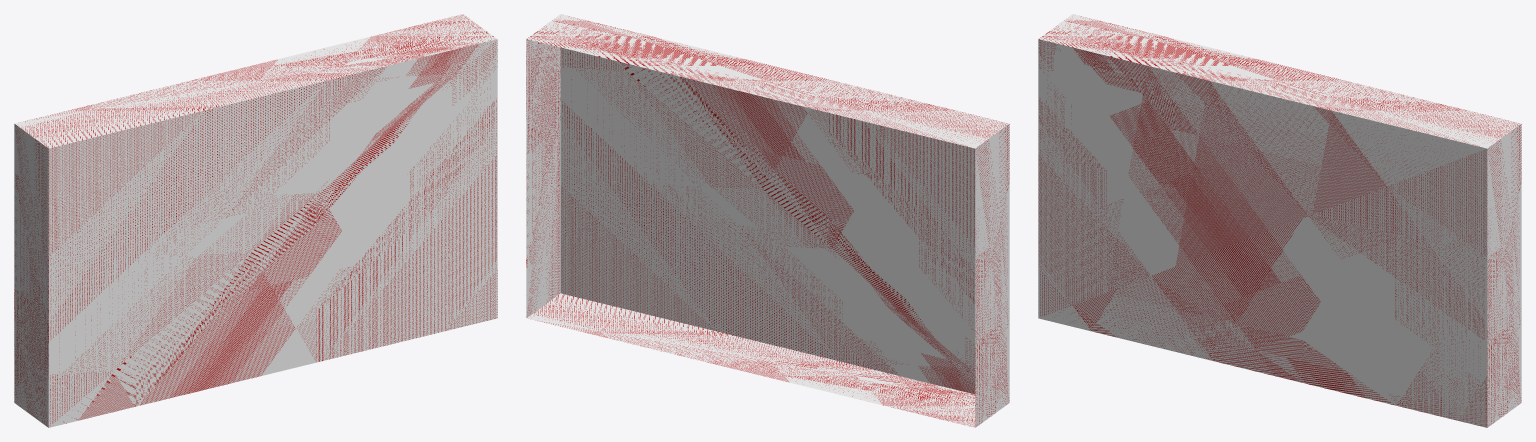
Rendered from original-48.obj.
The picture shows the model from 3 angles, left to right: view 1: azimuth 30°, elevation 25°; view 2: azimuth 150°, elevation 25°; view 3: azimuth 330°, elevation 25°; orthographic projection.
Visible parts, largest first — view 1: mesh2/mesh2-geometry/material_4/component_7#mesh2-geometry; view 2: mesh2/mesh2-geometry/material_4/component_7#mesh2-geometry; view 3: mesh2/mesh2-geometry/material_4/component_7#mesh2-geometry.
Boxes of the visible parts, x1,y1,x2,y2 form: mesh2/mesh2-geometry/material_4/component_7#mesh2-geometry: (14,14,497,427); mesh2/mesh2-geometry/material_4/component_7#mesh2-geometry: (526,14,1009,427); mesh2/mesh2-geometry/material_4/component_7#mesh2-geometry: (1038,14,1521,427).
Bounding box in the file's own units: 0.0503 × 0.0299 × 0.00665.
